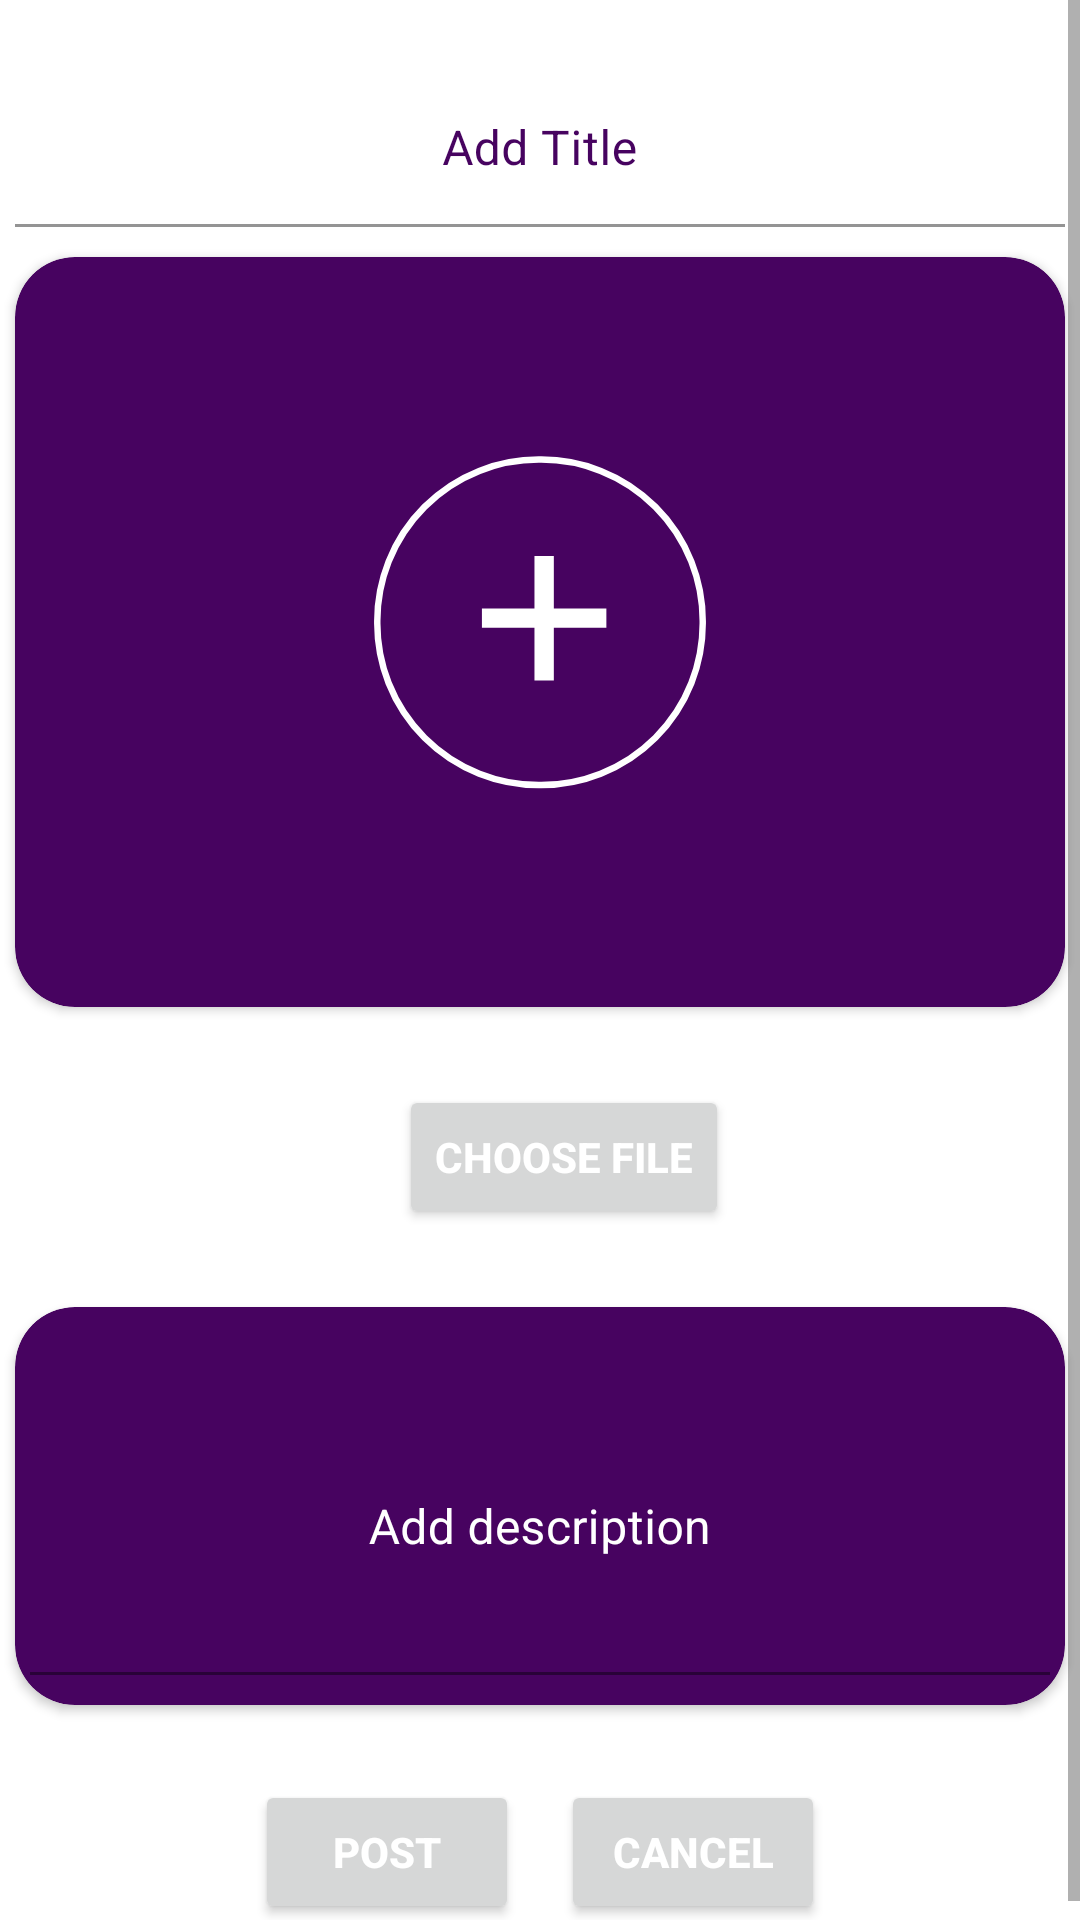

Screen size 1080×1920. Icon name, then its box in pixels as Rect(x1, y1, x2, y2):
add: Rect(374, 456, 706, 789)
